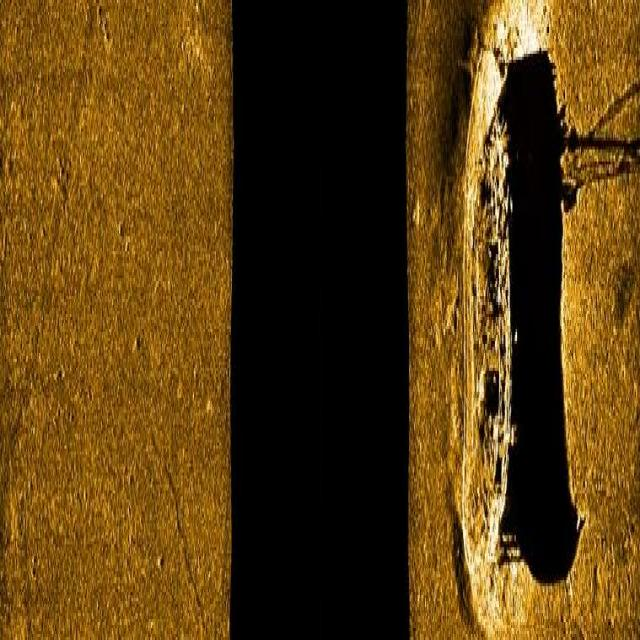ship: (458, 24, 512, 568)
